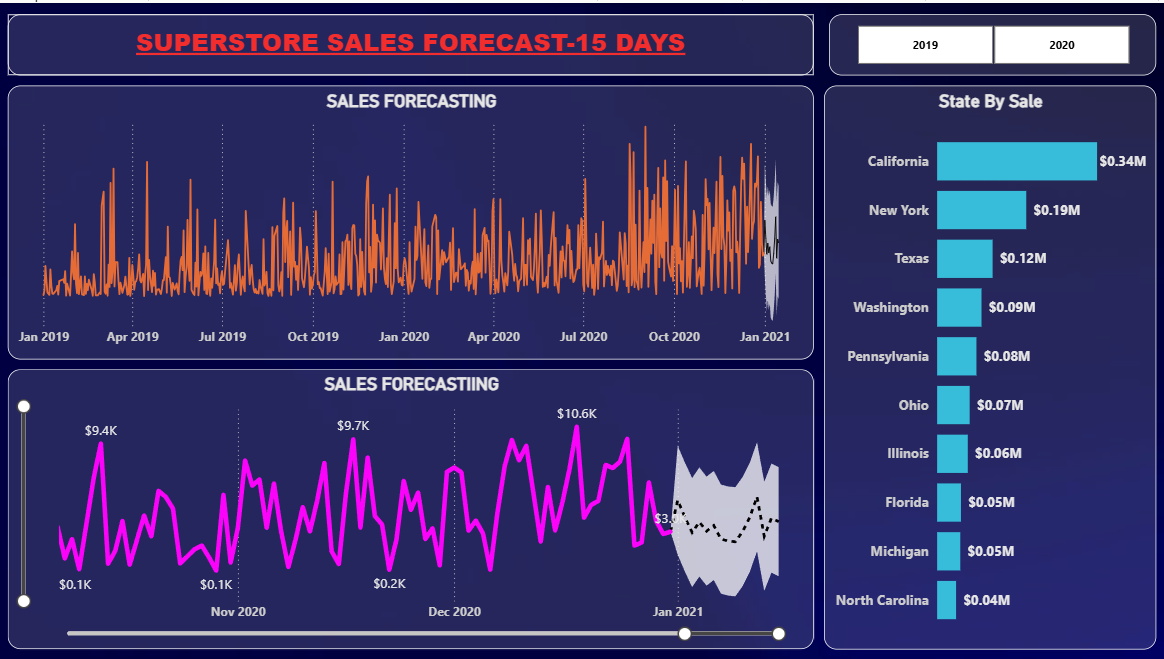

What the dashboard file says about the page in this screenshot:
{"tool":"powerbi","page":{"name":"FORECASTING","canvas":[1280,720],"ordinal":1},"visuals":[{"type":"lineChart","title":"SALES FORECASTING","fields":{"Y":["Sum(SuperStore_Sales_Dataset for power bi.Sales)"],"Category":["SuperStore_Sales_Dataset for power bi.Order Date"]},"box":[9.6,90.6,885.1,300.5],"z":0},{"type":"lineChart","title":"SALES FORECASTIING","fields":{"Y":["Sum(SuperStore_Sales_Dataset for power bi.Sales)"],"Category":["SuperStore_Sales_Dataset for power bi.Order Date"]},"box":[9.6,402.1,885.1,307.4],"z":1000},{"type":"clusteredBarChart","title":"State By Sale","fields":{"Category":["SuperStore_Sales_Dataset for power bi.State"],"Y":["Sum(SuperStore_Sales_Dataset for power bi.Sales)"]},"box":[905.7,90.6,365,618.9],"z":2000},{"type":"textbox","box":[9.6,12.3,885.1,67.2],"z":3000},{"type":"slicer","fields":{"Values":["SuperStore_Sales_Dataset for power bi.Order Date.Variation.Date Hierarchy.Year"]},"box":[911.2,12.3,359.5,67.2],"z":4000}]}

Visuals, with their boxes in screenshot pixels (x1, y1, x2, y2), scaled from the page's 1280x720 canvas onto the 1164x659 screenshot:
"SALES FORECASTING" lineChart: [left=9, top=83, right=814, bottom=358]
"SALES FORECASTIING" lineChart: [left=9, top=368, right=814, bottom=649]
"State By Sale" clusteredBarChart: [left=824, top=83, right=1156, bottom=649]
textbox: [left=9, top=11, right=814, bottom=73]
slicer - SuperStore_Sales_Dataset for power bi.Order Date.Variation.Date Hierarchy.Year: [left=829, top=11, right=1156, bottom=73]
